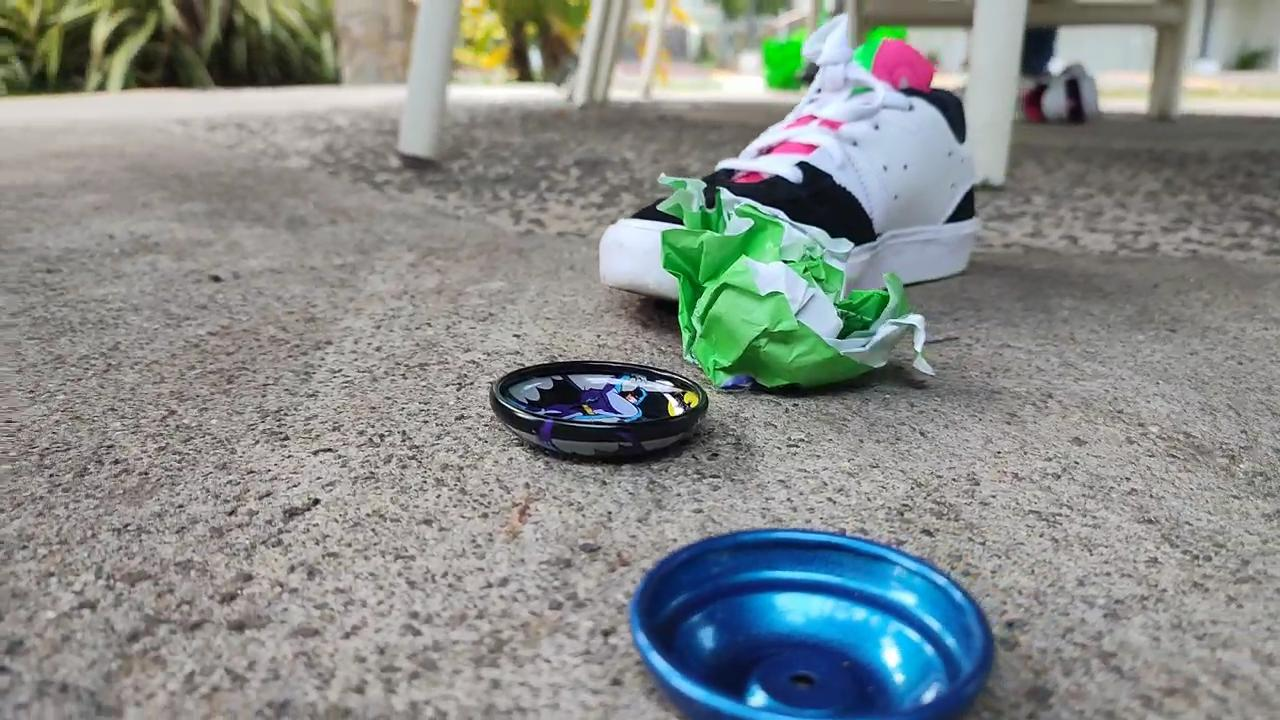Paper: (633, 154, 945, 400)
